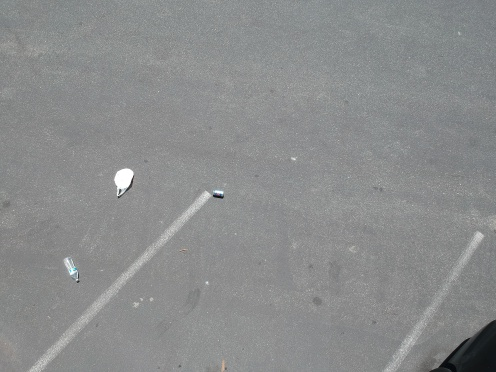bottle: (61, 251, 86, 286)
can: (209, 185, 229, 202)
plastic bag: (107, 165, 138, 198)
